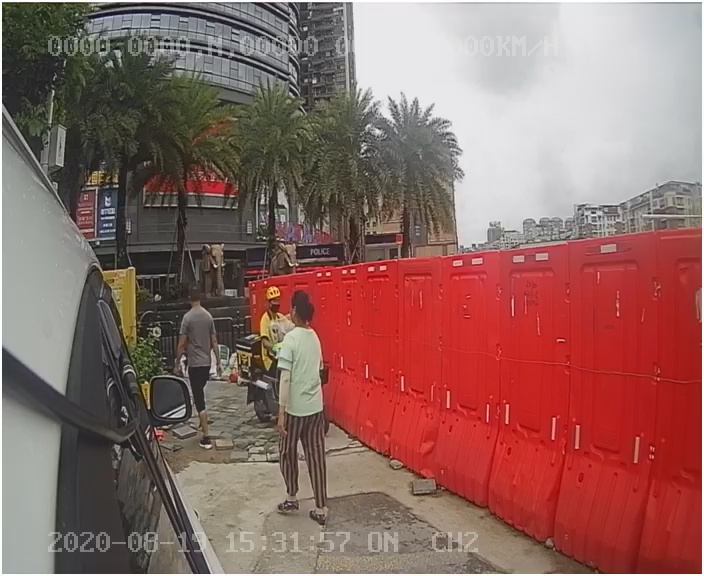person: (267, 295, 345, 530)
